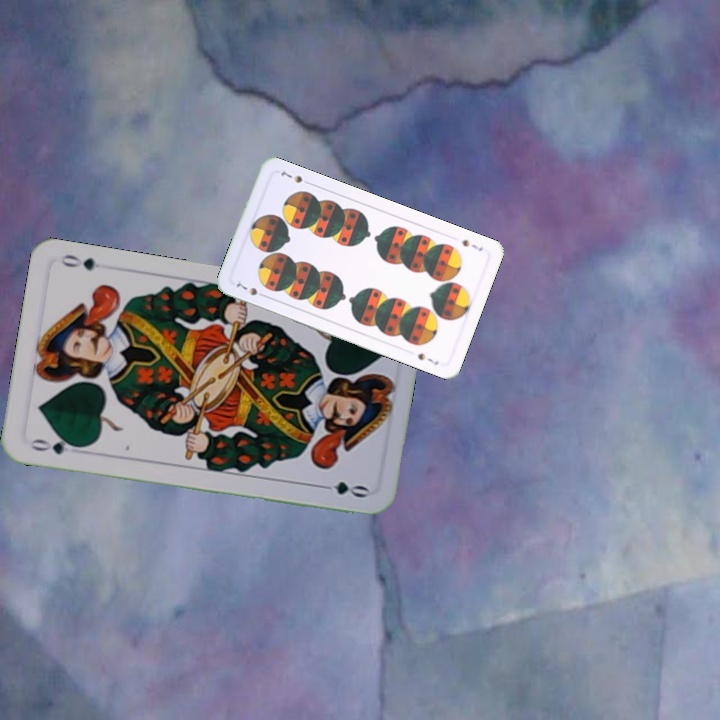GO: (25, 434, 84, 458)
S7: (232, 279, 269, 300), (458, 235, 485, 254)
